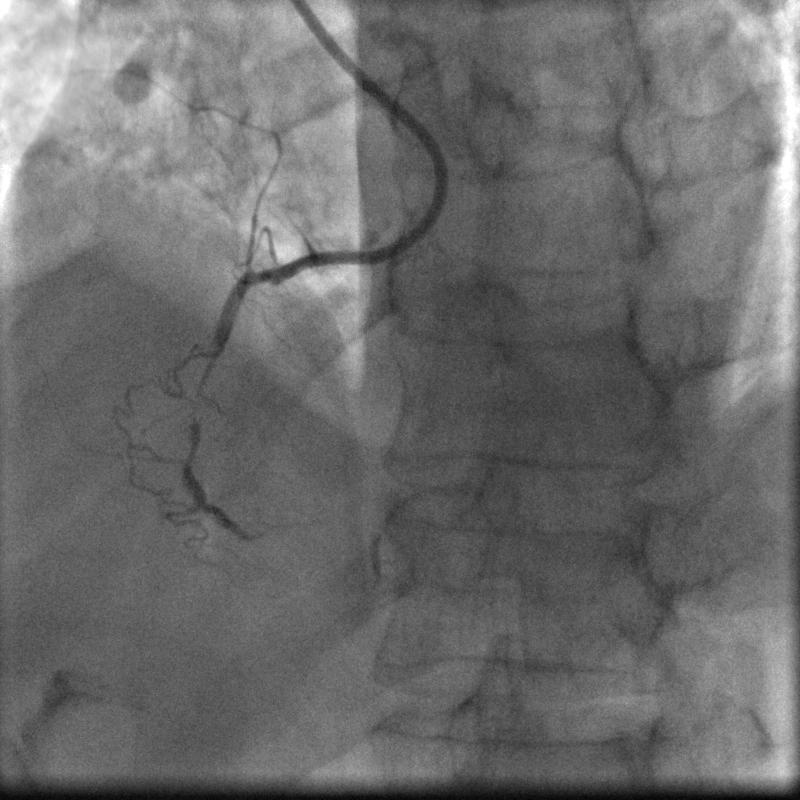Stenosis: (183, 343, 218, 437)
